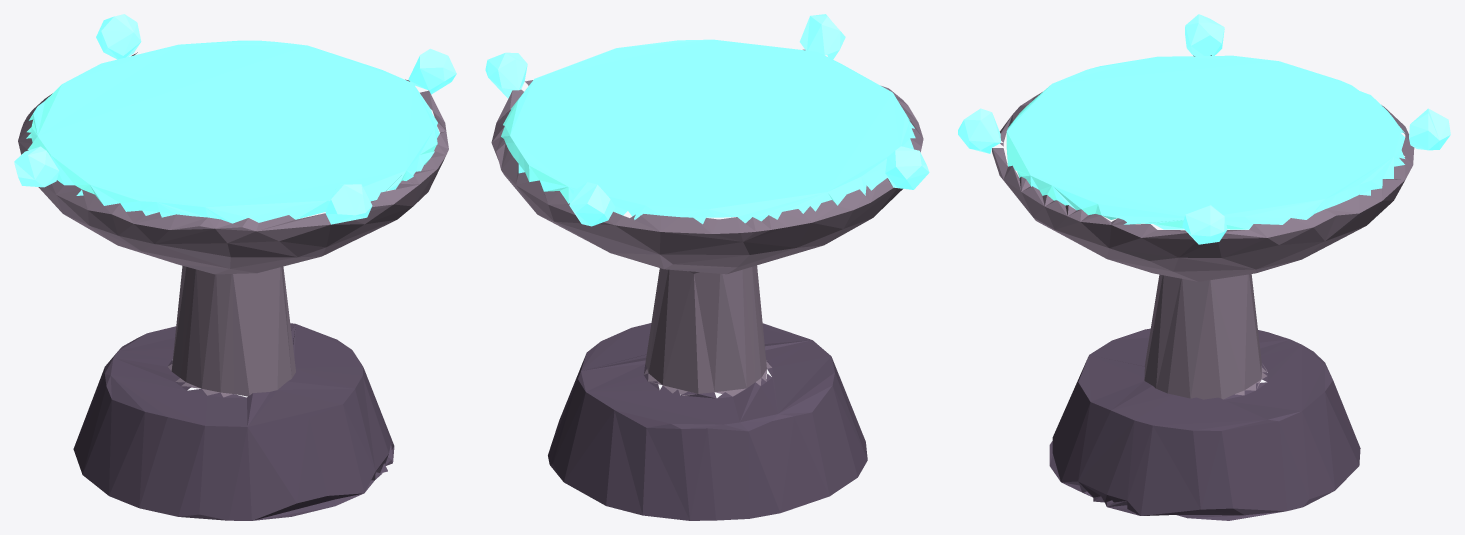
File: spirit_vessel.glb
The picture shows the model from 3 angles, left to right: view 1: azimuth 30°, elevation 25°; view 2: azimuth 150°, elevation 25°; view 3: azimuth 270°, elevation 25°; orthographic projection. The views are drawn at different scales.
Parts seen in each view (by area): view 1: spirit_vessel; view 2: spirit_vessel; view 3: spirit_vessel.
Part boxes in pixels (x1,y1,x2,y2): spirit_vessel: [14, 14, 456, 520]; spirit_vessel: [485, 14, 929, 520]; spirit_vessel: [958, 14, 1450, 520].
Size of the model in its own units: 1.1 by 0.8481 by 1.1.
